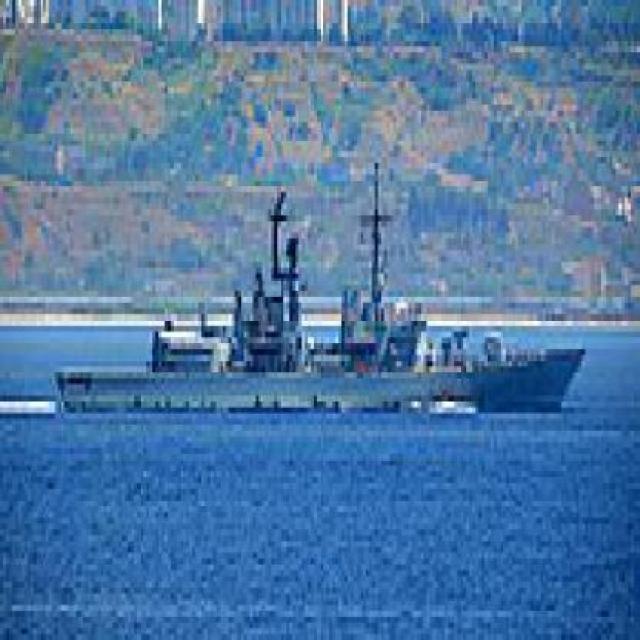warship2: (44, 153, 593, 444)
